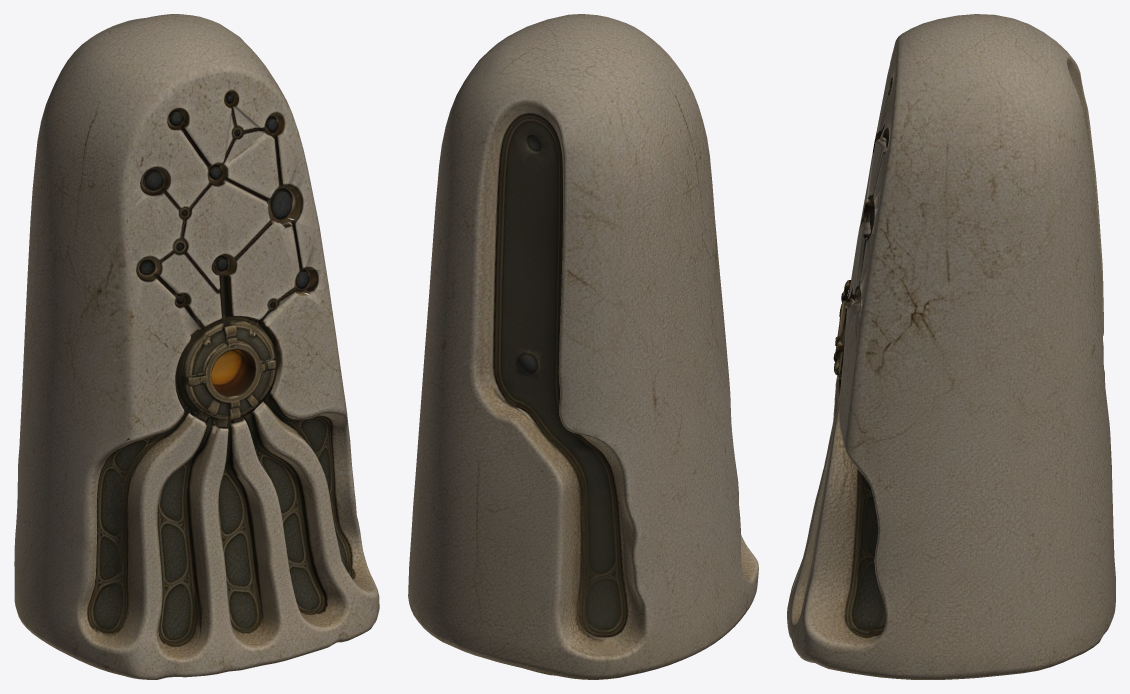
Rendered from tacit-claim.glb.
The picture shows the model from 3 angles, left to right: view 1: azimuth 30°, elevation 25°; view 2: azimuth 150°, elevation 25°; view 3: azimuth 270°, elevation 25°; orthographic projection.
Parts seen in each view (by area): view 1: bf381b23_4133_49c6_8b37_def83a55ebb3; view 2: bf381b23_4133_49c6_8b37_def83a55ebb3; view 3: bf381b23_4133_49c6_8b37_def83a55ebb3.
Part boxes in pixels (x1,y1,x2,y2): bf381b23_4133_49c6_8b37_def83a55ebb3: [14, 14, 379, 679]; bf381b23_4133_49c6_8b37_def83a55ebb3: [408, 14, 758, 679]; bf381b23_4133_49c6_8b37_def83a55ebb3: [787, 14, 1115, 679].
Size of the model in its own units: 0.5317 by 0.9995 by 0.5073.
Materials: 1 (1 with a texture image).
